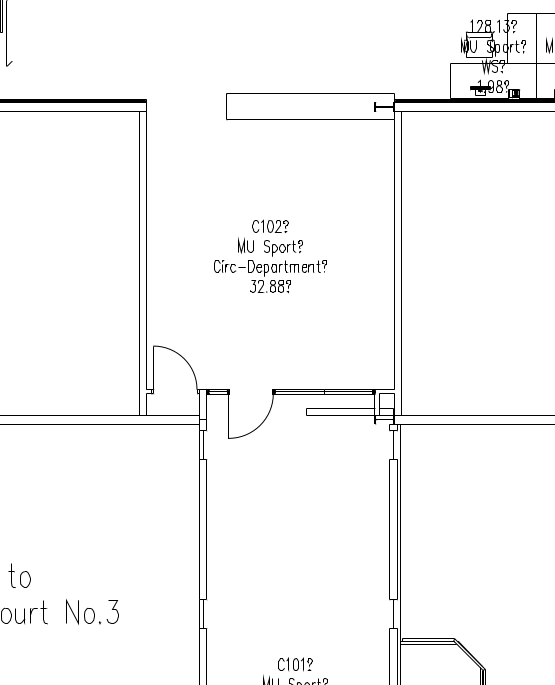door: (151, 341, 199, 394), (226, 392, 274, 445)
